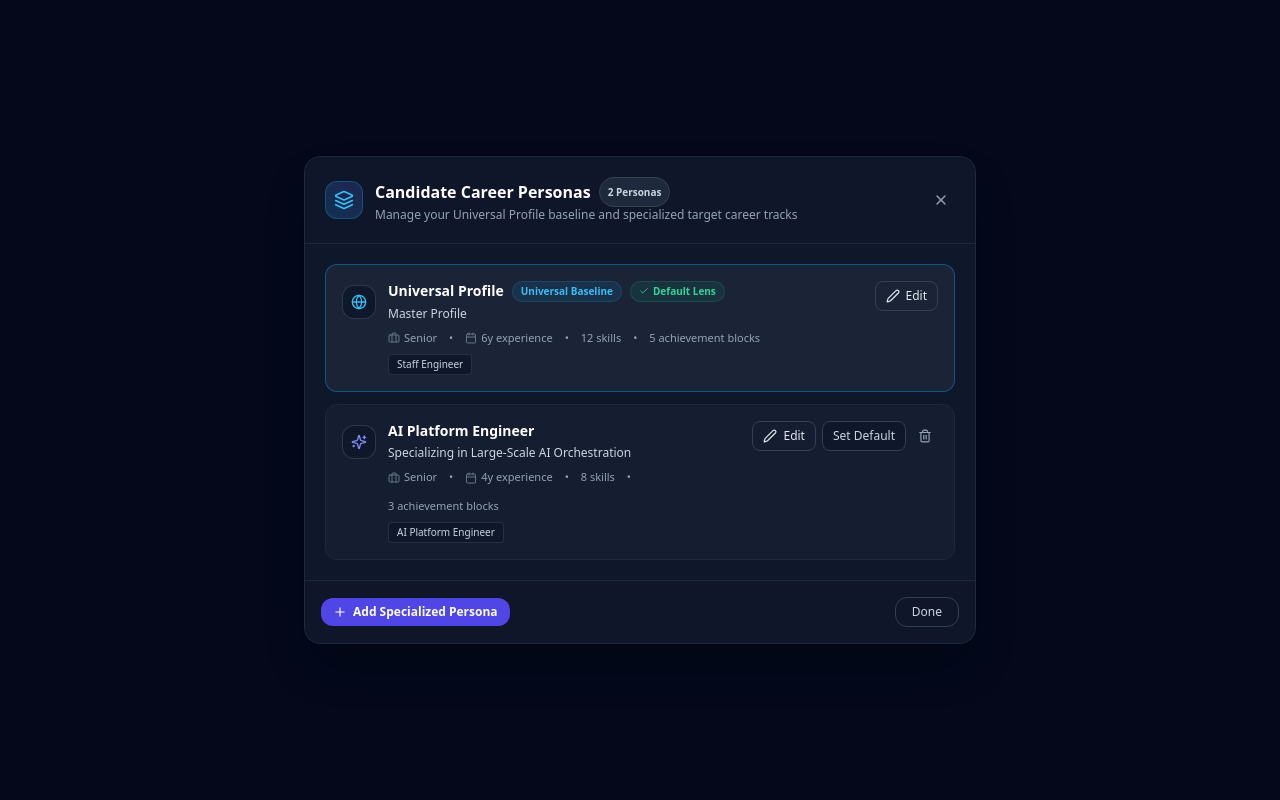
Test: PersonaManagementModal Component › displays duplicate name error message when updating fails
The width and height of the screenshot is (1280, 800).
Click the button with test id "edit-persona-btn-p-specialized-1".
click(784, 436)  # box left=752, top=421, right=816, bottom=451
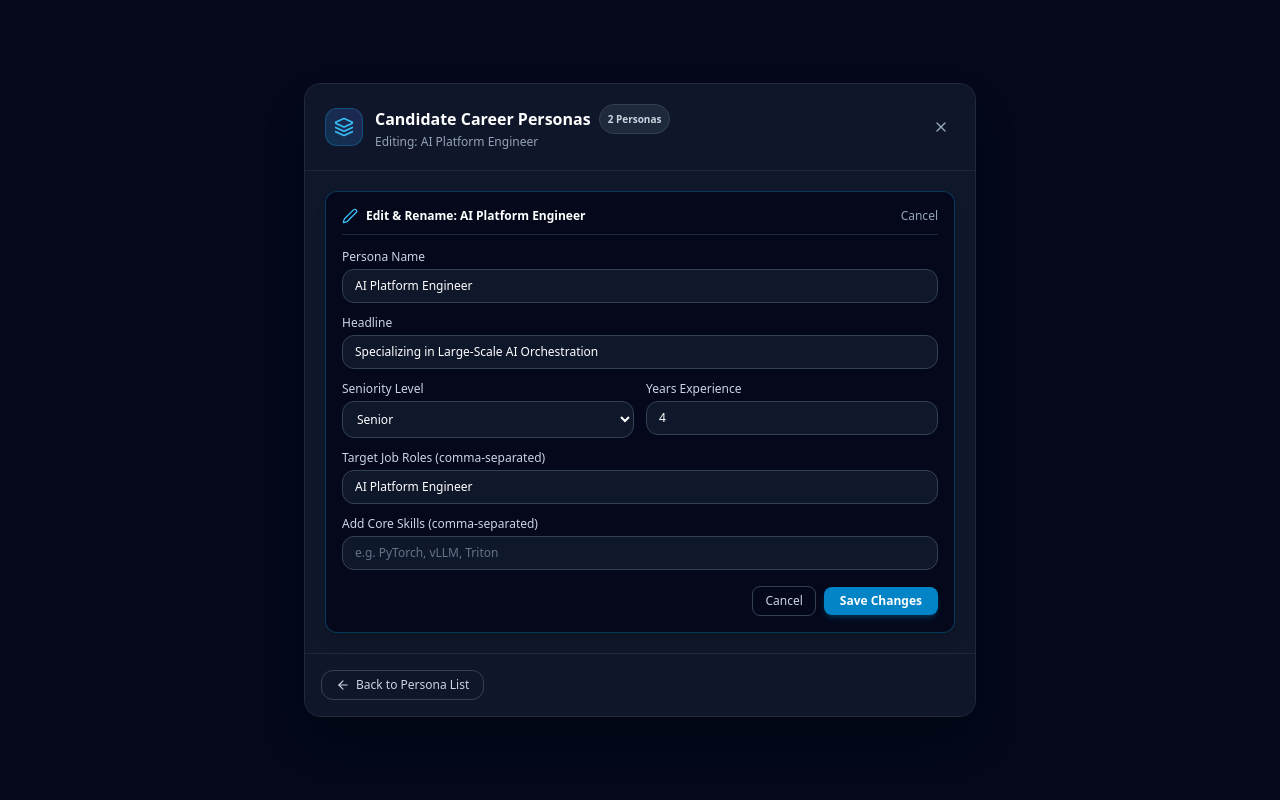
Click the button with test id "save-persona-btn".
click(881, 601)  # box left=824, top=587, right=938, bottom=615
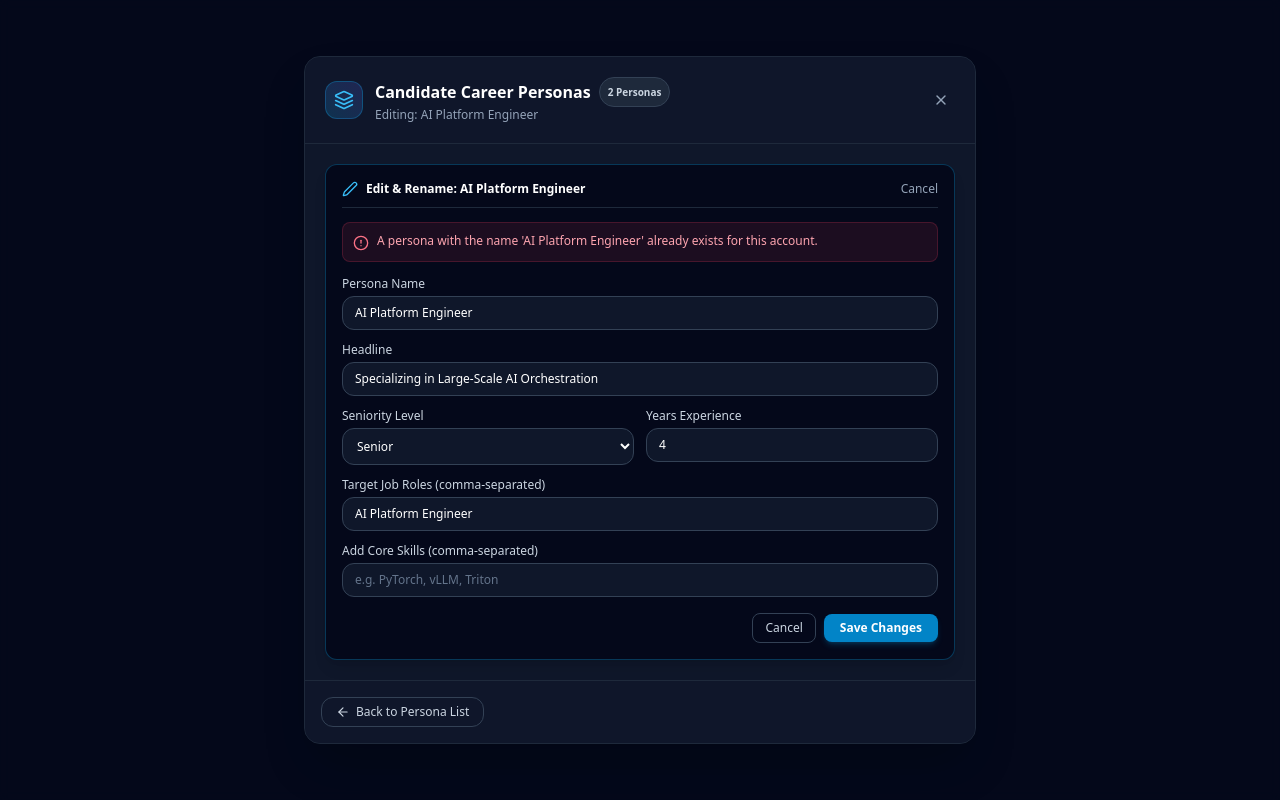
Check: the text "A persona with the name 'AI Platform Engineer' already exists" is shown, box left=377, top=232, right=818, bottom=249
